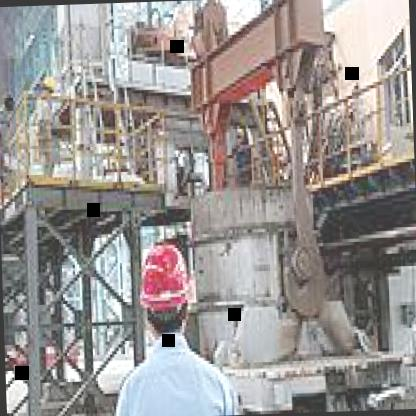helmet: (134, 241, 193, 337), (38, 70, 58, 94)
